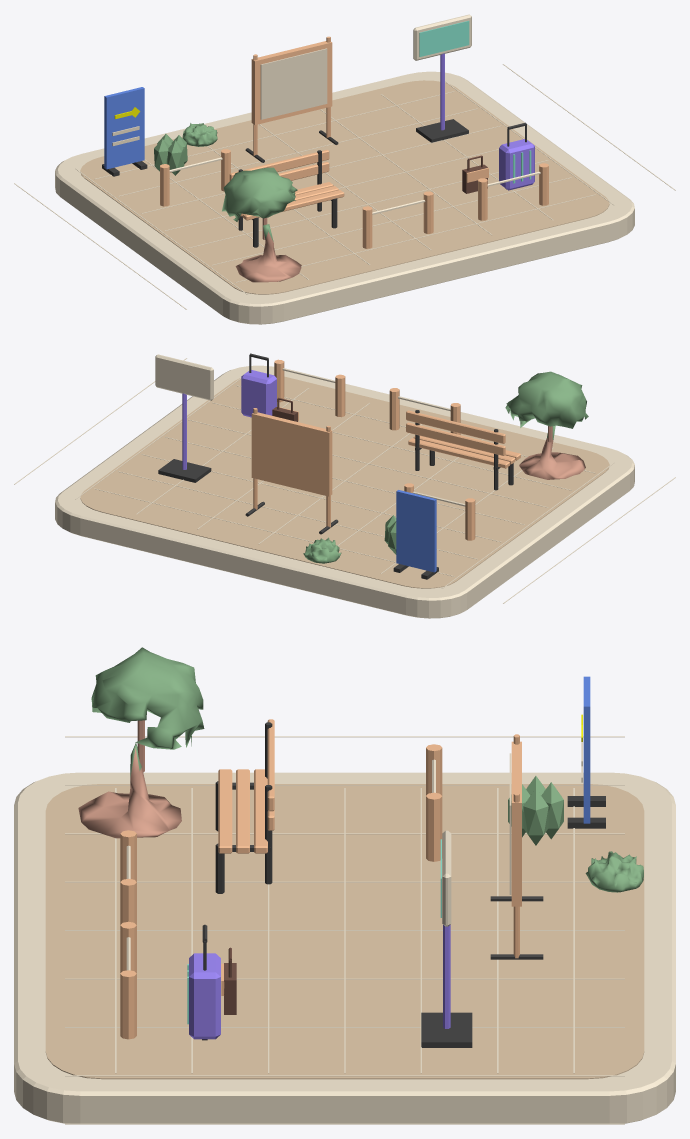
3 renders of one model, top to bottom at view 1: azimuth 30°, elevation 25°; view 2: azimuth 150°, elevation 25°; view 3: azimuth 270°, elevation 25°, orthographic. The views are drawn at different scales.
Visible parts, largest first — view 1: COM-02 Floor Surface, COM-01 Rounded Base Direct, 잎이 넓은 작은 나무, Art surface, Panel, Frame, Shell, Inset, Sign panel, Foot.002, Back slat.001, 넓은 잎 풀 포기 (+3 smaller); view 2: COM-02 Floor Surface, COM-01 Rounded Base Direct, Frame, 잎이 넓은 작은 나무, Panel, Sign panel, Shell, Back slat, Back slat.001, Seat slat.002, Foot.002, 넓은 잎 풀 포기 (+4 smaller); view 3: COM-02 Floor Surface, COM-01 Rounded Base Direct, 잎이 넓은 작은 나무, Shell, 넓은 잎 풀 포기, Frame, Foot.002, Seat slat, Seat slat.001, Panel, Boundary post.003, Boundary post.005 (+16 smaller).
Part boxes in pixels (x1=…): COM-02 Floor Surface: x1=80, y1=80, x2=609, y2=294; COM-01 Rounded Base Direct: x1=55, y1=71, x2=634, y2=324; 잎이 넓은 작은 나무: x1=222, y1=167, x2=301, y2=282; Art surface: x1=260, y1=48, x2=327, y2=119; Panel: x1=104, y1=87, x2=144, y2=169; Frame: x1=251, y1=41, x2=332, y2=124; Shell: x1=499, y1=139, x2=534, y2=190; Inset: x1=419, y1=20, x2=469, y2=56; Sign panel: x1=413, y1=14, x2=471, y2=60; Foot.002: x1=416, y1=119, x2=468, y2=142; Back slat.001: x1=229, y1=149, x2=329, y2=180; 넓은 잎 풀 포기: x1=182, y1=123, x2=217, y2=146; COM-02 Floor Surface: x1=80, y1=375, x2=609, y2=588; COM-01 Rounded Base Direct: x1=55, y1=365, x2=634, y2=618; Frame: x1=251, y1=412, x2=332, y2=496; 잎이 넓은 작은 나무: x1=505, y1=371, x2=588, y2=479; Panel: x1=396, y1=490, x2=436, y2=572; Sign panel: x1=155, y1=354, x2=213, y2=400; Shell: x1=241, y1=370, x2=276, y2=417; Back slat: x1=406, y1=422, x2=505, y2=455; Back slat.001: x1=406, y1=410, x2=505, y2=443; Seat slat.002: x1=408, y1=438, x2=509, y2=468; Foot.002: x1=158, y1=459, x2=211, y2=482; 넓은 잎 풀 포기: x1=303, y1=537, x2=341, y2=563; COM-02 Floor Surface: x1=45, y1=784, x2=644, y2=1079; COM-01 Rounded Base Direct: x1=14, y1=772, x2=675, y2=1123; 잎이 넓은 작은 나무: x1=78, y1=647, x2=204, y2=838; Shell: x1=189, y1=953, x2=220, y2=1039; 넓은 잎 풀 포기: x1=585, y1=851, x2=643, y2=892; Frame: x1=511, y1=741, x2=521, y2=906; Foot.002: x1=421, y1=1012, x2=472, y2=1047; Seat slat: x1=218, y1=769, x2=232, y2=853; Seat slat.001: x1=236, y1=769, x2=249, y2=853; Panel: x1=583, y1=676, x2=590, y2=823; Boundary post.003: x1=120, y1=970, x2=136, y2=1039; Boundary post.005: x1=426, y1=792, x2=442, y2=861.
Bounding box in the file's own units: 7.21 × 1.87 × 5.2.
1 material, 1 textured.
